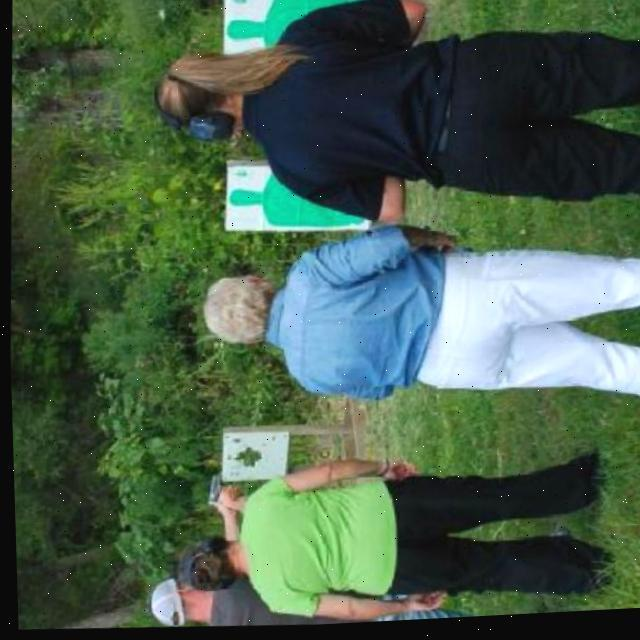gun: (202, 472, 225, 510)
